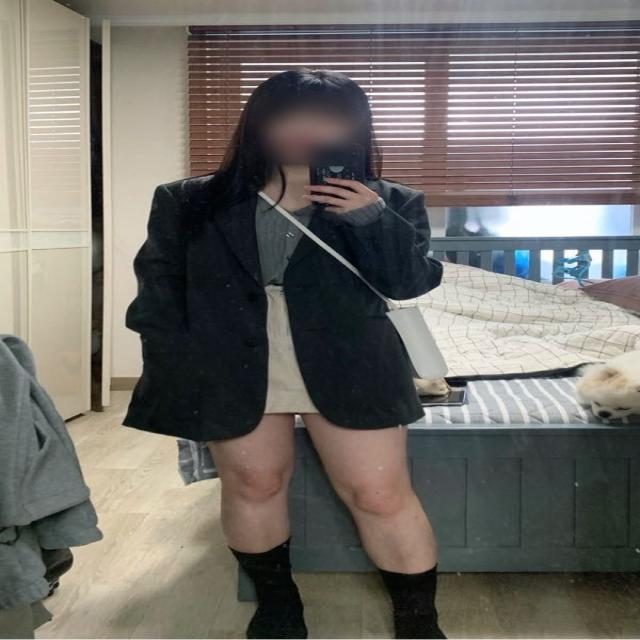skirt: (121, 173, 443, 439), (168, 285, 386, 410)
